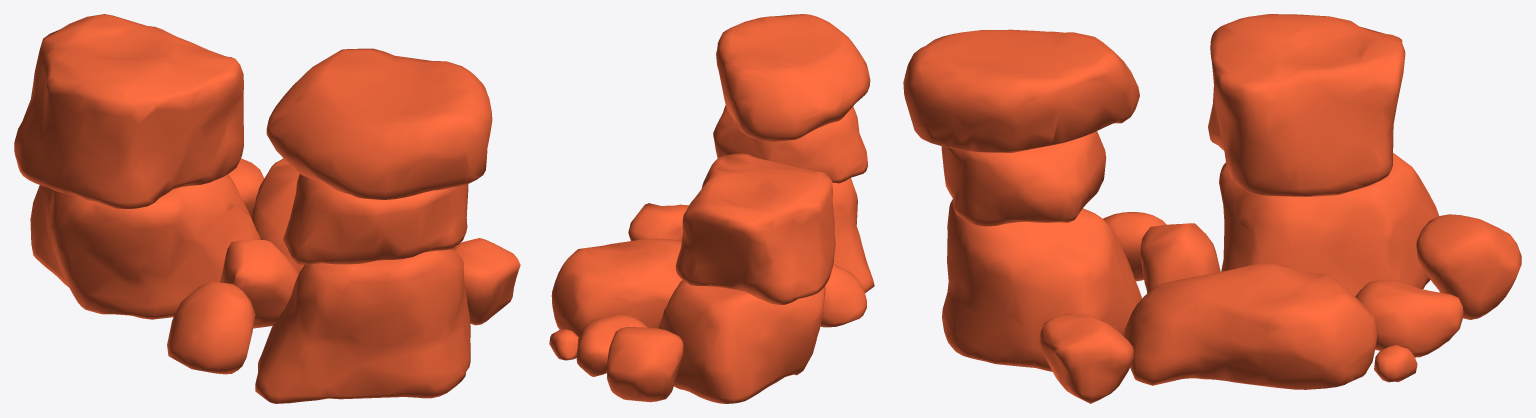
The picture shows the model from 3 angles, left to right: view 1: azimuth 30°, elevation 25°; view 2: azimuth 150°, elevation 25°; view 3: azimuth 270°, elevation 25°; orthographic projection. The views are drawn at different scales.
Visible parts, largest first — view 1: Roca04; view 2: Roca04; view 3: Roca04.
Part boxes in pixels (<box>): Roca04: <box>14,14,520,403</box>; Roca04: <box>549,14,874,403</box>; Roca04: <box>903,14,1521,403</box>.
Size of the model in its own units: 352 by 275 by 526.
